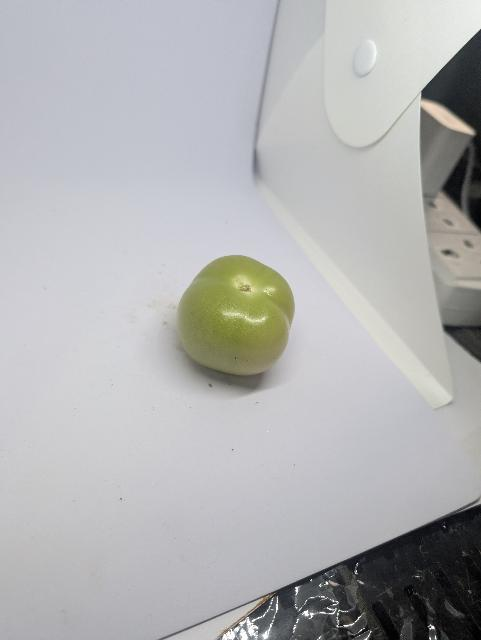green: (175, 254, 297, 375)
